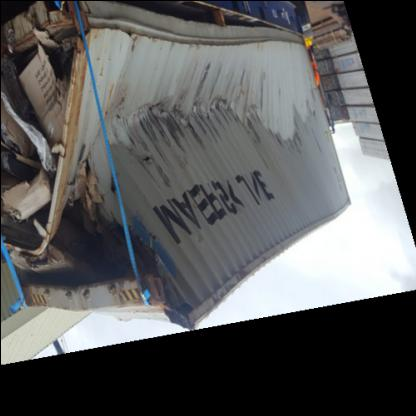Damage: (1, 13, 323, 312)
